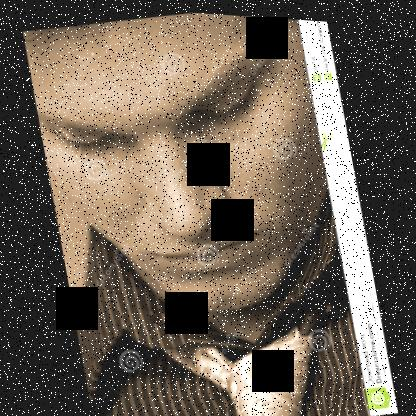Male: (20, 1, 344, 337)
